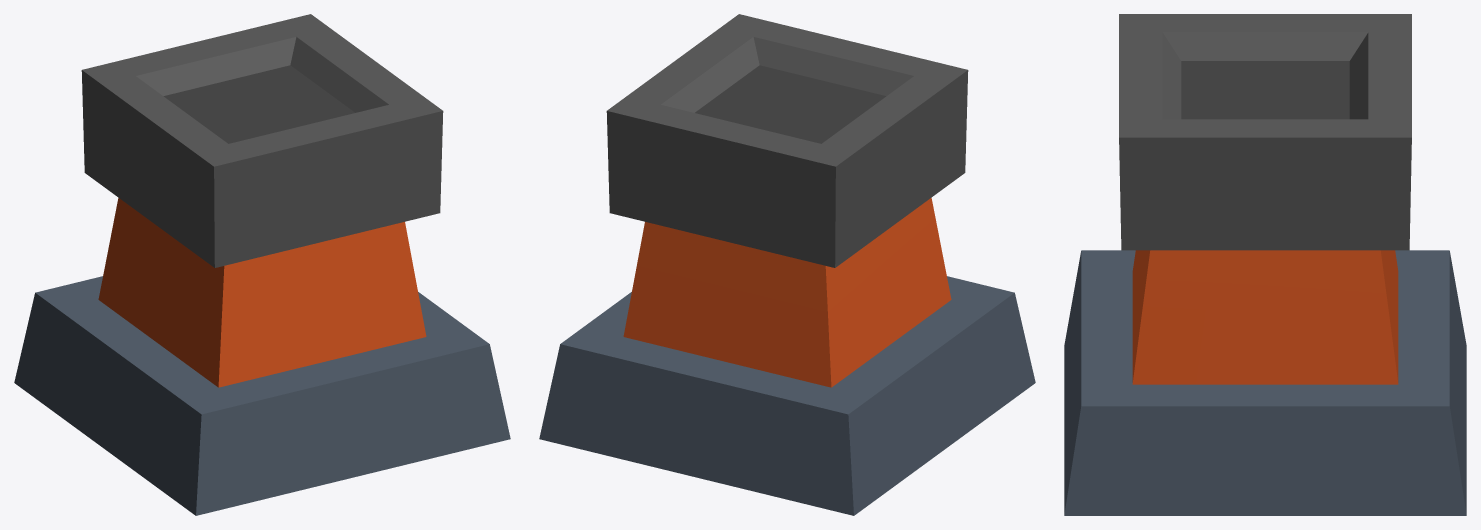
Rendered from Chimney_3_B_3.fbx.
The picture shows the model from 3 angles, left to right: view 1: azimuth 30°, elevation 25°; view 2: azimuth 150°, elevation 25°; view 3: azimuth 270°, elevation 25°; orthographic projection. The views are drawn at different scales.
Visible parts, largest first — view 1: Chimney_3_B_3; view 2: Chimney_3_B_3; view 3: Chimney_3_B_3.
Boxes of the visible parts, bbox=[...] form: Chimney_3_B_3: bbox=[14, 14, 510, 515]; Chimney_3_B_3: bbox=[539, 14, 1035, 515]; Chimney_3_B_3: bbox=[1064, 14, 1466, 515].
Size of the model in its own units: 61.13 by 59.5 by 61.13.
